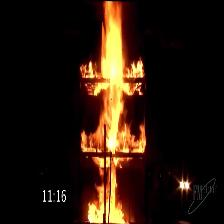fire: (78, 1, 145, 170)
